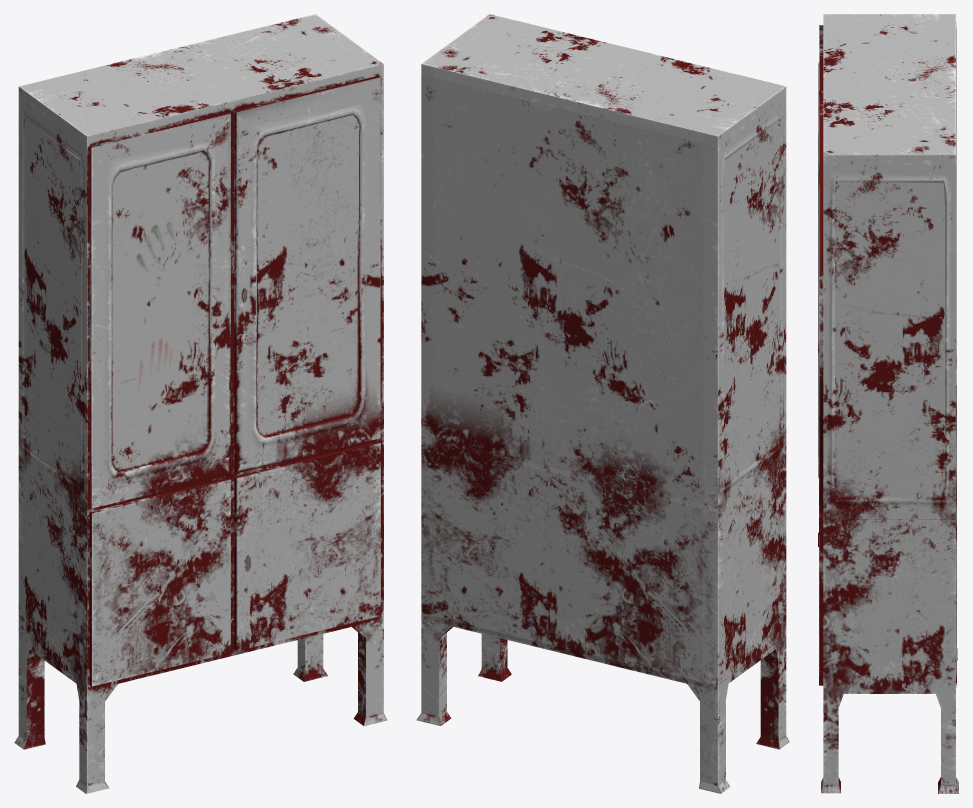
The model's file is szafka2Rentgen.glb.
The picture shows the model from 3 angles, left to right: view 1: azimuth 30°, elevation 25°; view 2: azimuth 150°, elevation 25°; view 3: azimuth 270°, elevation 25°; orthographic projection. The views are drawn at different scales.
Visible parts, largest first — view 1: Cube.127; view 2: Cube.127; view 3: Cube.127.
Part boxes in pixels (bbox=[...]): Cube.127: bbox=[14, 14, 387, 793]; Cube.127: bbox=[416, 14, 789, 793]; Cube.127: bbox=[818, 14, 958, 793].
Size of the model in its own units: 0.8766 by 1.81 by 0.3616.
1 material, 1 textured.
